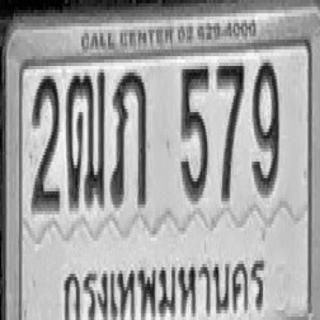A18: (66, 69, 105, 208)
A32: (110, 69, 147, 208)
N02: (31, 73, 59, 211)
N05: (180, 63, 210, 201)
N07: (216, 61, 244, 200)
N09: (252, 59, 280, 195)
P04: (58, 248, 266, 320)
